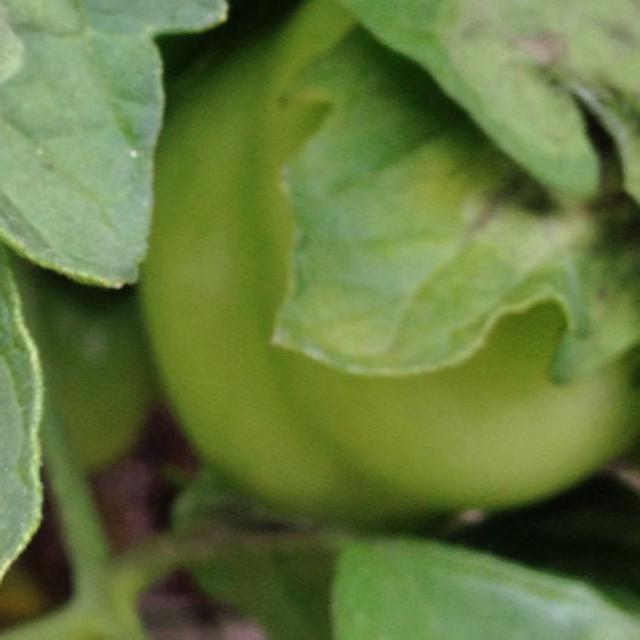Tomato leaf late blight: (299, 0, 640, 320), (202, 470, 640, 640), (0, 0, 216, 330), (0, 0, 68, 635)
